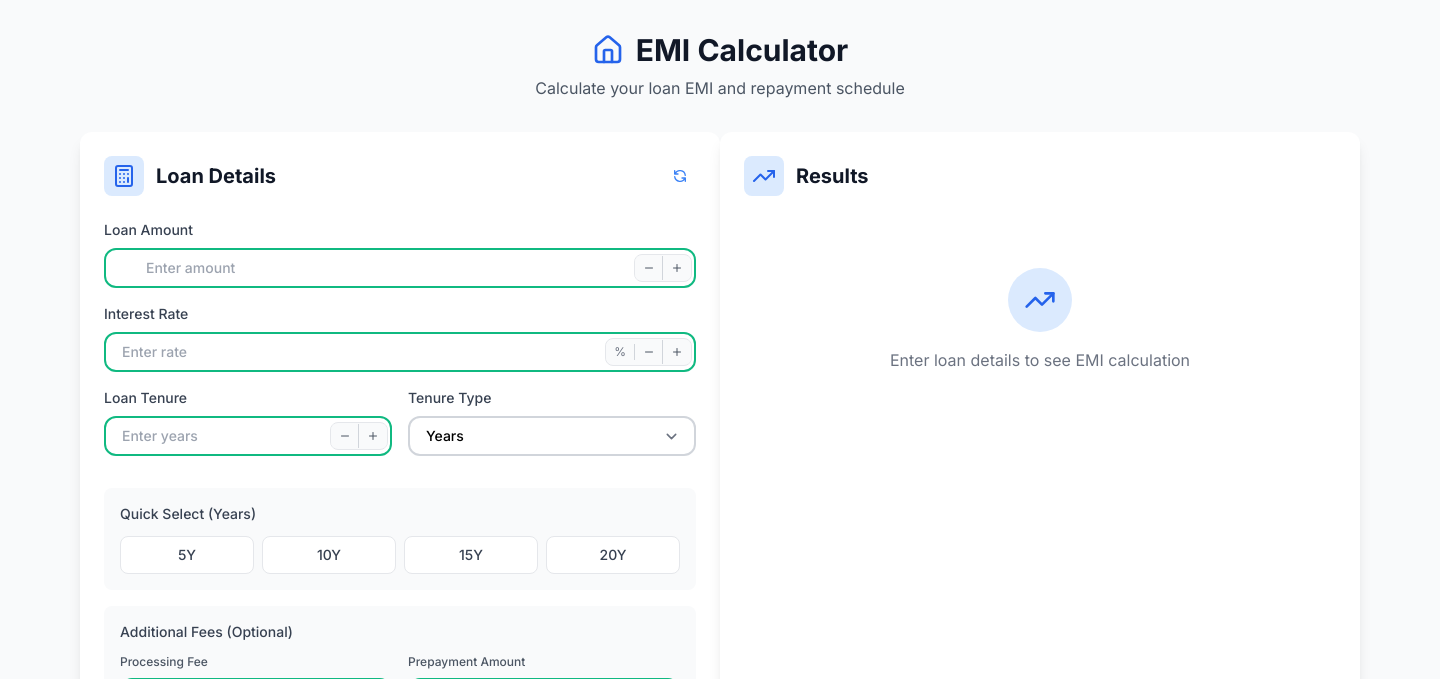
Test case: EMICalculator - Comprehensive Test Suite › 💰 Input Functionality & Calculations › should display results when all required inputs are provided
Fill all required inputs
Type "500000" into the field with placeholder "Enter amount" below "Loan Amount" at [400, 268], box [104,248,696,288]
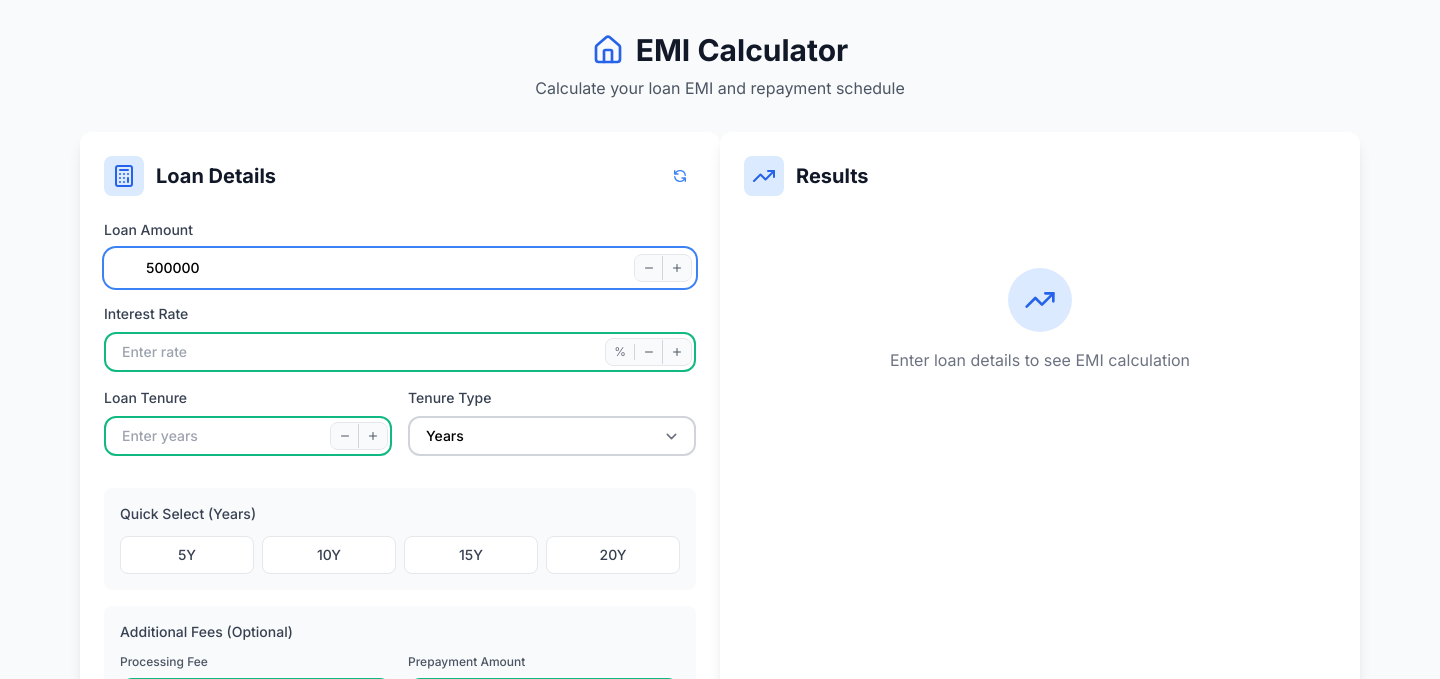
Type "8.5" into the field with placeholder "Enter rate" at [400, 352], box [104,332,696,372]
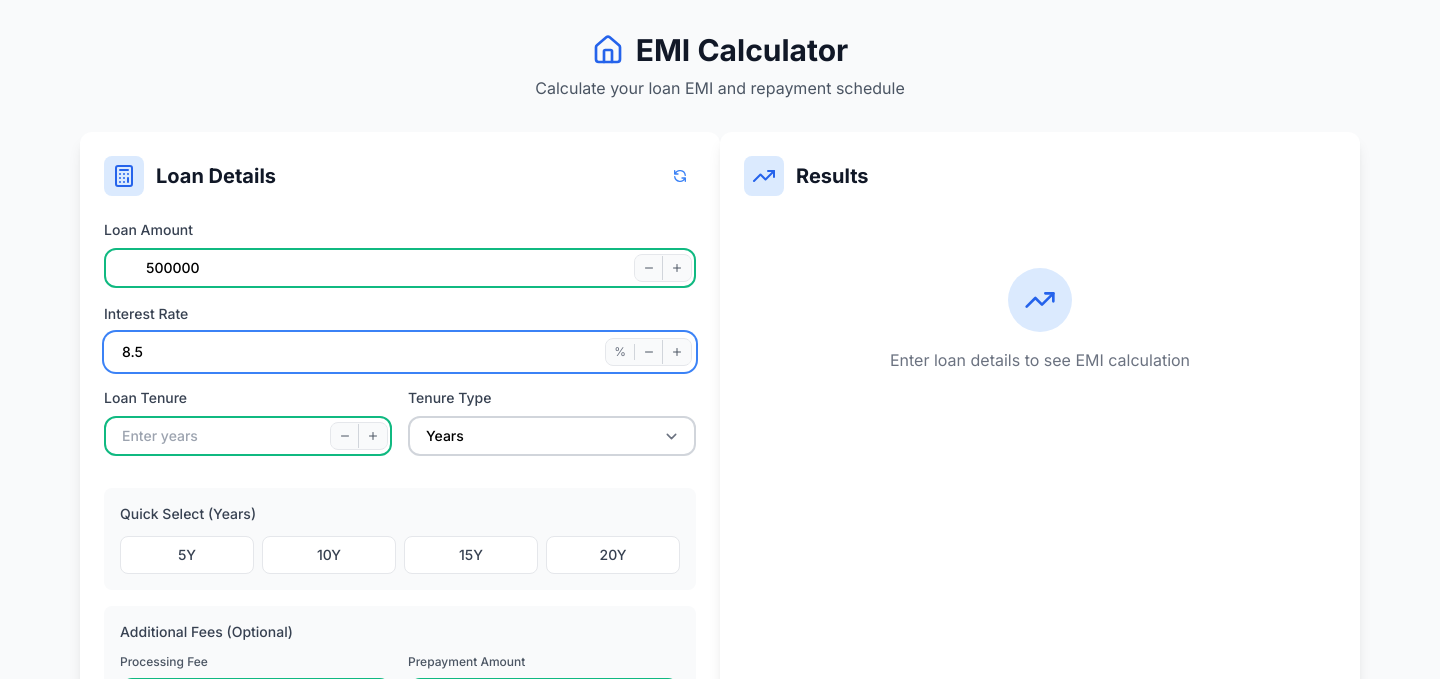
Type "15" into the field with placeholder "Enter years" at [248, 436], box [104,416,392,456]
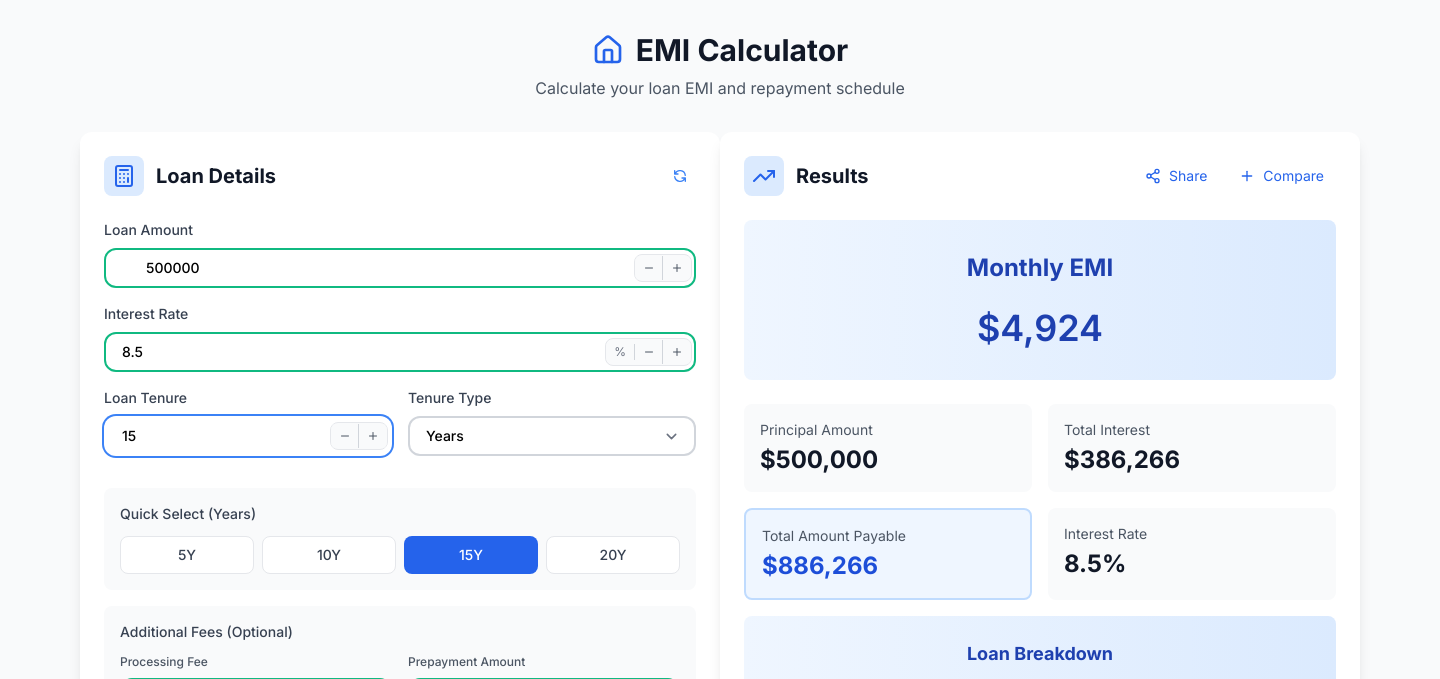
Now the heading "Monthly EMI" is shown, box [967,253,1113,282]
Now the text "Total Interest" is shown, box [1064,421,1150,438]
Now the text "Total Amount Payable" is shown, box [762,527,906,544]
